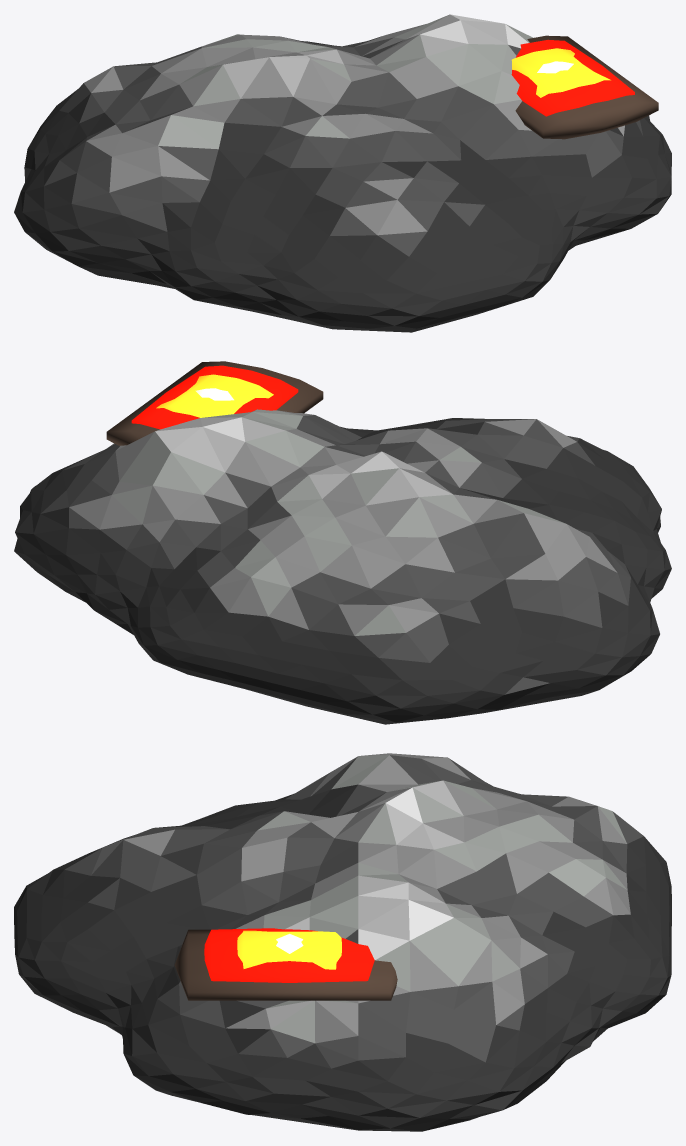
File: newshd-18.glb
The picture shows the model from 3 angles, top to bottom: view 1: azimuth 30°, elevation 25°; view 2: azimuth 150°, elevation 25°; view 3: azimuth 270°, elevation 25°; orthographic projection. The views are drawn at different scales.
Parts seen in each view (by area): view 1: newshd-18, newshd-18_vent; view 2: newshd-18, newshd-18_vent; view 3: newshd-18, newshd-18_vent.
Boxes of the visible parts, <box> form: newshd-18: <box>14,14,671,332</box>; newshd-18_vent: <box>511,35,658,139</box>; newshd-18: <box>14,409,671,724</box>; newshd-18_vent: <box>106,361,323,445</box>; newshd-18: <box>14,753,671,1131</box>; newshd-18_vent: <box>174,928,397,1000</box>.
Bounding box in the file's own units: 1.79 × 0.5575 × 1.55.
